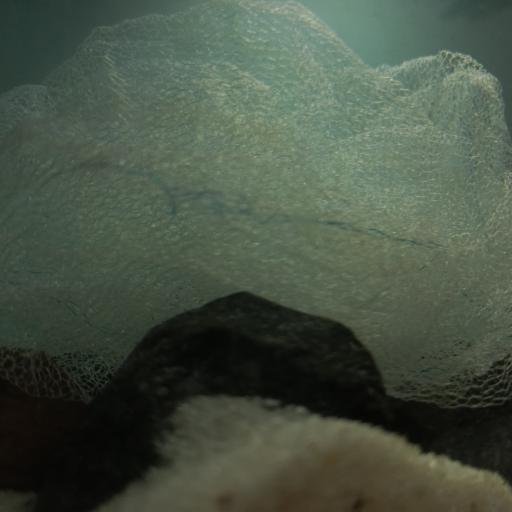net: (3, 2, 512, 414)
